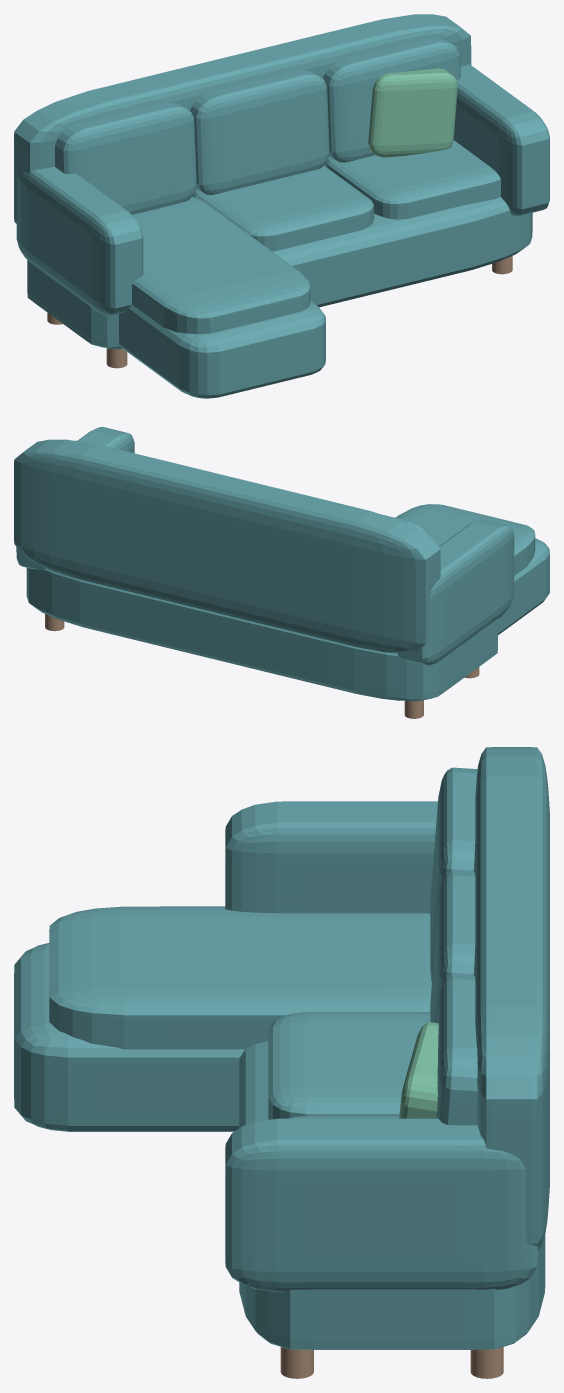
File: sofa-l.glb
3 renders of one model, top to bottom at view 1: azimuth 30°, elevation 25°; view 2: azimuth 150°, elevation 25°; view 3: azimuth 270°, elevation 25°, orthographic. The views are drawn at different scales.
Parts seen in each view (by area): view 1: base, chaise-top, back, cushion1, arm-1, chaise-base, cushion0, arm1, seat1, seat2, cushion2, pillow; view 2: back, base, arm-1, chaise-top, chaise-base, arm1; view 3: arm1, chaise-top, back, arm-1, chaise-base, base, seat1, cushion2, cushion0, cushion1, pillow, foot1.16000000000000010.31 (+1 smaller).
Boxes of the visible parts, box(x1,y1,x2,y2) form: base: box(27, 197, 532, 349); chaise-top: box(132, 196, 310, 334); back: box(14, 14, 471, 223); cushion1: box(190, 70, 329, 194); arm-1: box(16, 167, 143, 315); chaise-base: box(119, 301, 325, 398); cushion0: box(55, 103, 196, 214); arm1: box(453, 64, 549, 216); seat1: box(192, 165, 373, 251); seat2: box(325, 140, 500, 219); cushion2: box(323, 37, 460, 162); pillow: box(368, 68, 457, 157); back: box(14, 439, 440, 653); base: box(26, 568, 497, 701); arm-1: box(397, 519, 514, 665); chaise-top: box(395, 504, 535, 575); chaise-base: box(498, 538, 549, 634); arm1: box(16, 427, 134, 569); arm1: box(225, 1118, 537, 1292); chaise-top: box(49, 906, 431, 1049); back: box(473, 747, 549, 1250); arm-1: box(225, 801, 437, 913); chaise-base: box(14, 943, 244, 1131); base: box(239, 1041, 545, 1349); seat1: box(268, 1012, 430, 1119); cushion2: box(436, 974, 477, 1125); cushion0: box(430, 767, 477, 982); cushion1: box(430, 871, 475, 1023); pillow: box(399, 1022, 438, 1118); foot1.16000000000000010.31: box(470, 1347, 503, 1378).
Size of the model in its own units: 2.7 by 1.19 by 1.75.
